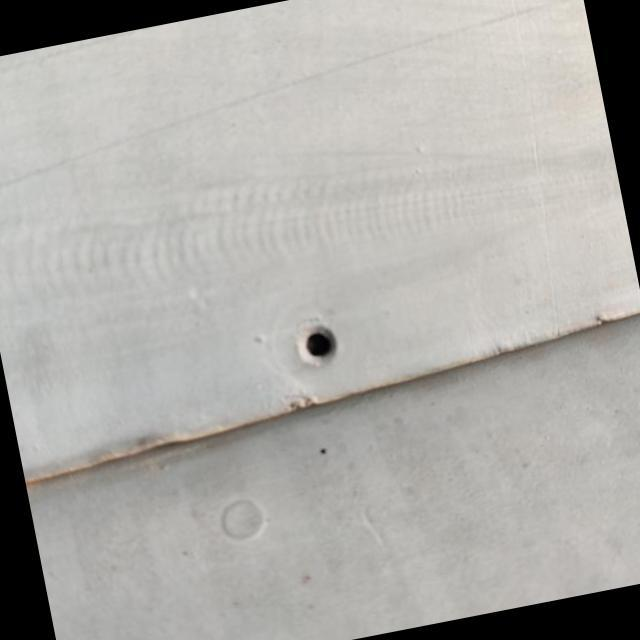Fastener Damage: (258, 286, 382, 404)
